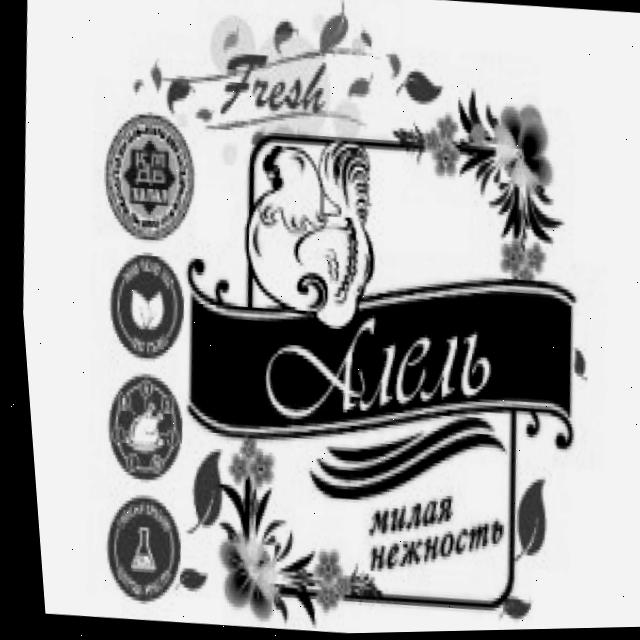alel: (147, 112, 600, 624)
